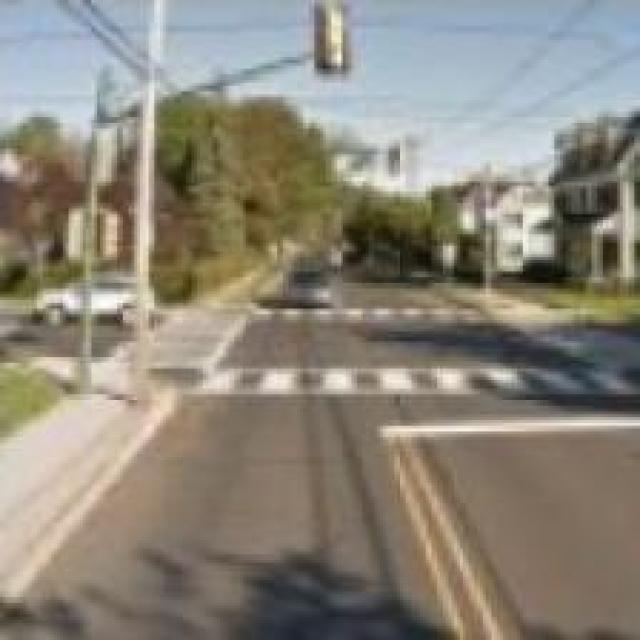walk-crossing: (189, 359, 635, 402)
